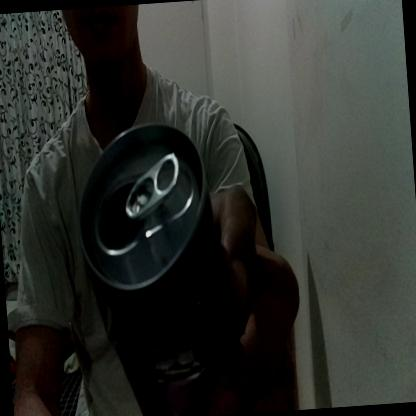alumunium_can: (72, 116, 243, 416)
